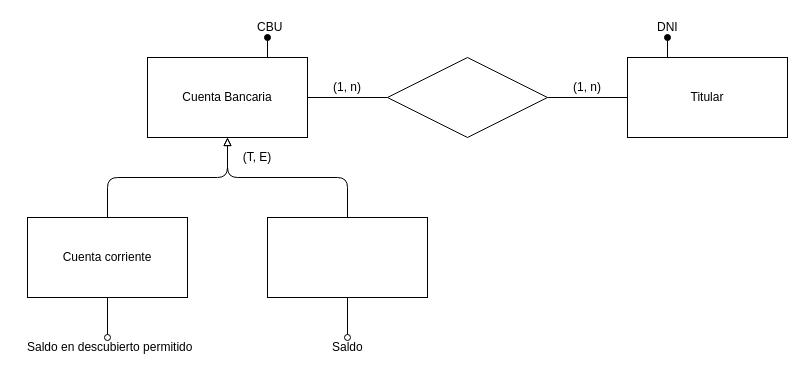
The diagram is 805 pixels wide and 374 high, and some of its shapes have lost their labels. The centre of each missing label's shape, as x and y in pixels:
Caja de ahorro: (347,257)
posee: (467,97)
